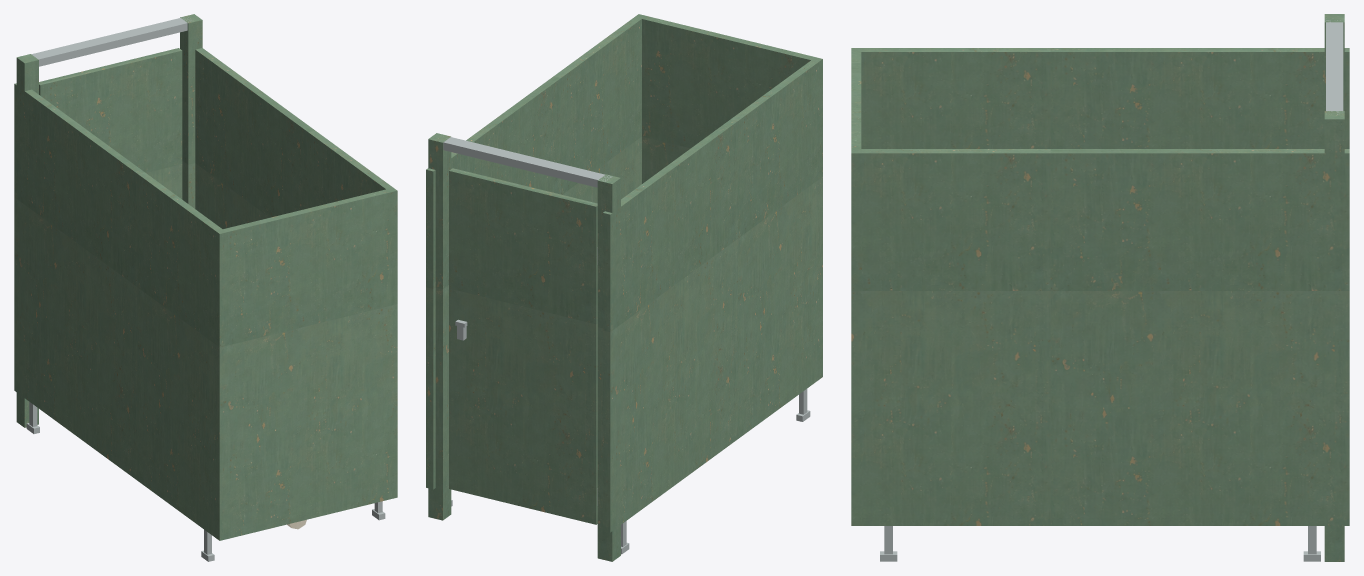
The model's file is bath-stall-left.gltf.
3 views of the same model, side by side, from view 1: azimuth 30°, elevation 25°; view 2: azimuth 150°, elevation 25°; view 3: azimuth 270°, elevation 25° (orthographic). The views are drawn at different scales.
Visible parts, largest first — view 1: partition-paint, door-paint, partition-metal, fittings-metal; view 2: partition-paint, door-paint, partition-metal, fittings-metal; view 3: partition-paint, partition-metal, fittings-metal.
Part boxes in pixels (bbox=[...]): partition-paint: bbox=[14, 14, 397, 540]; door-paint: bbox=[39, 48, 182, 199]; partition-metal: bbox=[31, 17, 191, 66]; fittings-metal: bbox=[26, 402, 385, 561]; partition-paint: bbox=[426, 14, 822, 561]; door-paint: bbox=[449, 168, 597, 524]; partition-metal: bbox=[443, 137, 612, 187]; fittings-metal: bbox=[451, 389, 810, 554]; partition-paint: bbox=[851, 14, 1349, 561]; partition-metal: bbox=[1326, 20, 1343, 114]; fittings-metal: bbox=[880, 526, 1320, 561].
Size of the model in its own units: 1 by 1.96 by 2.
Materials: 5 (2 with a texture image).
